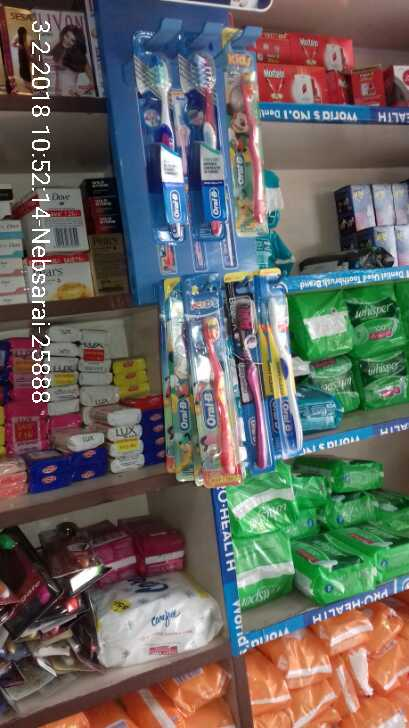pharmacy: (186, 55, 239, 237), (184, 299, 233, 488), (140, 51, 186, 230), (233, 293, 265, 472), (341, 290, 401, 340), (357, 352, 409, 407)
